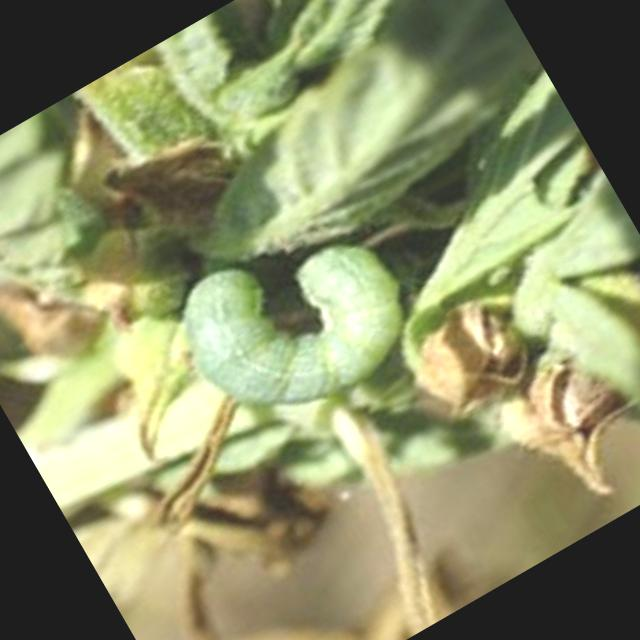Beet armyworm: (128, 151, 457, 486)
